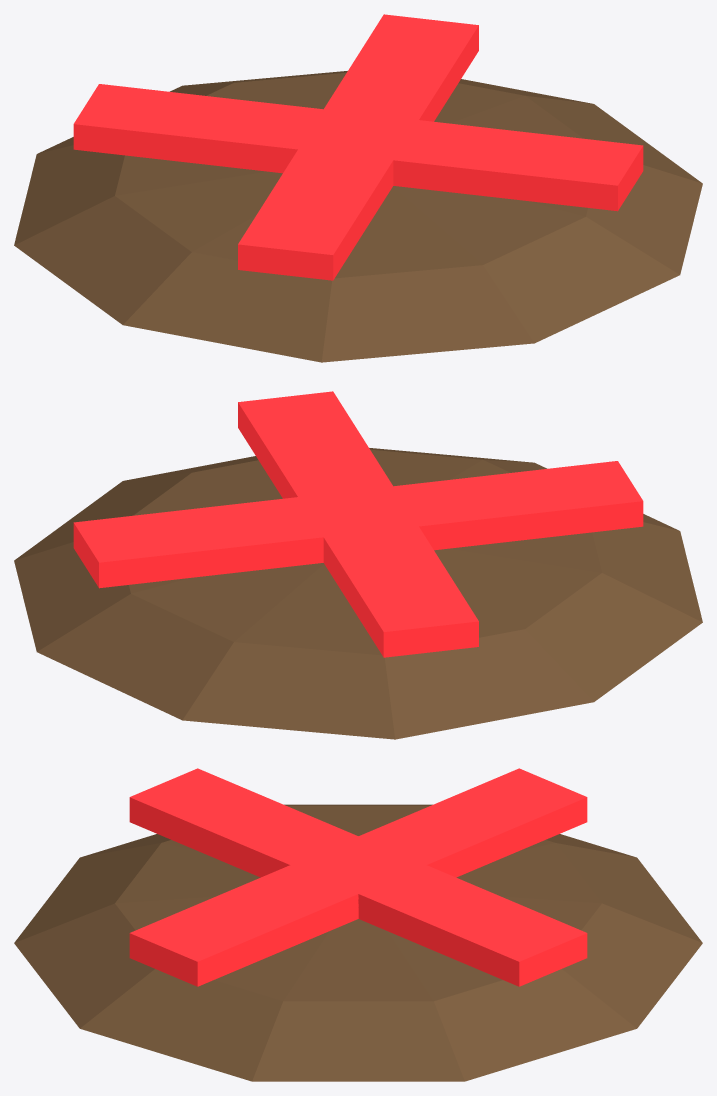
File: XMark.fbx
3 views of the same model, one above another, from view 1: azimuth 30°, elevation 25°; view 2: azimuth 150°, elevation 25°; view 3: azimuth 270°, elevation 25° (orthographic). The views are drawn at different scales.
Visible parts, largest first — view 1: Mark; view 2: Mark; view 3: Mark.
Boxes of the visible parts, x1=… form: Mark: x1=14, y1=14, x2=702, y2=362; Mark: x1=14, y1=391, x2=702, y2=739; Mark: x1=14, y1=768, x2=702, y2=1081.
Bounding box in the file's own units: 1.9 × 0.43 × 2.
